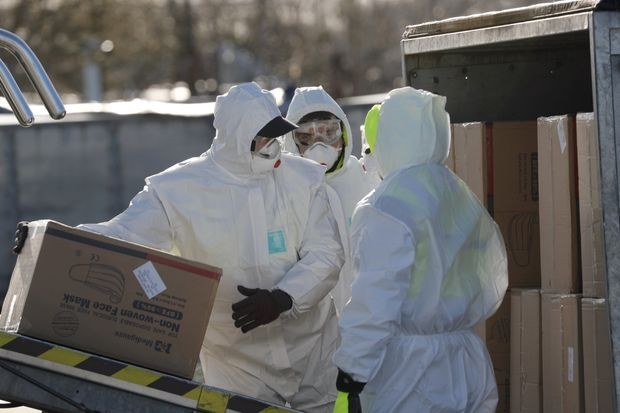Coverall: (69, 80, 342, 411), (342, 82, 507, 413), (280, 83, 370, 312)
Gloves: (227, 282, 296, 334), (10, 218, 34, 256), (335, 368, 365, 398)
Goggles: (290, 120, 346, 146), (249, 133, 282, 156)
with_mask: (296, 124, 342, 173), (250, 134, 284, 185), (356, 129, 380, 176)
